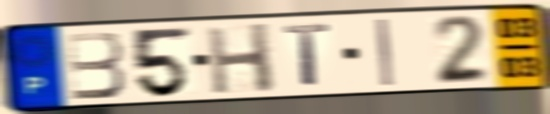2: (428, 13, 492, 86)
5: (128, 25, 194, 99)
B: (63, 29, 129, 102)
H: (204, 20, 278, 96)
I: (373, 16, 396, 88)
T: (281, 21, 334, 89)
